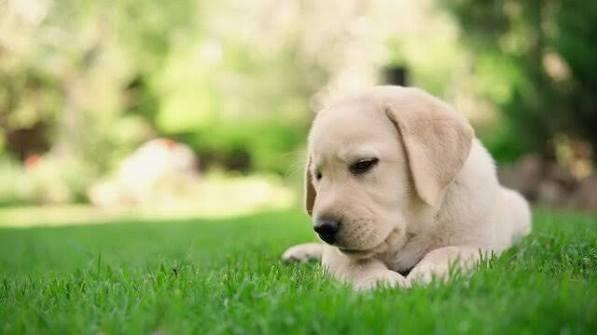puppy-dog: (278, 83, 536, 292)
